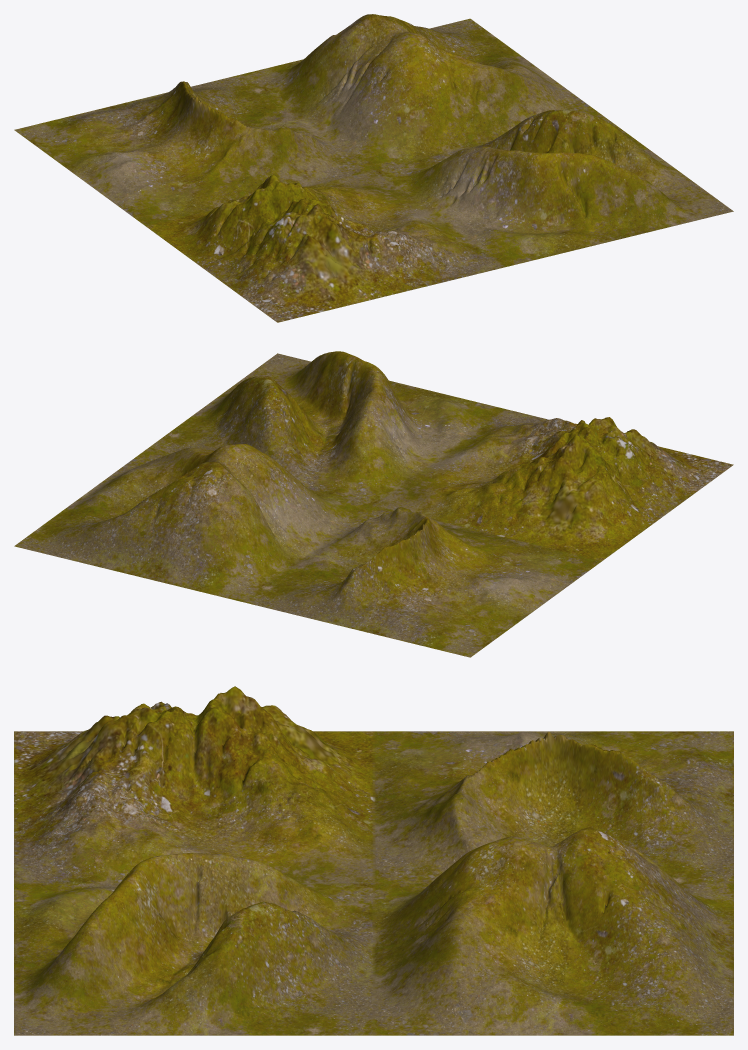
File: korea-1951-terrain.glb
The picture shows the model from 3 angles, top to bottom: view 1: azimuth 30°, elevation 25°; view 2: azimuth 150°, elevation 25°; view 3: azimuth 270°, elevation 25°; orthographic projection. The views are drawn at different scales.
Parts seen in each view (by area): view 1: korea-tile-4, korea-tile-2, korea-tile-3, korea-tile-1; view 2: korea-tile-2, korea-tile-3, korea-tile-1, korea-tile-4; view 3: korea-tile-2, korea-tile-4, korea-tile-3, korea-tile-1.
Part boxes in pixels (left/top/right/bottom): korea-tile-4: left=374, top=110, right=733, bottom=266; korea-tile-2: left=242, top=14, right=601, bottom=170; korea-tile-3: left=146, top=171, right=505, bottom=322; korea-tile-1: left=14, top=74, right=373, bottom=226; korea-tile-2: left=14, top=444, right=373, bottom=601; korea-tile-3: left=374, top=409, right=733, bottom=560; korea-tile-1: left=242, top=505, right=601, bottom=657; korea-tile-4: left=146, top=351, right=505, bottom=505; korea-tile-2: left=374, top=827, right=733, bottom=1035; korea-tile-4: left=14, top=853, right=373, bottom=1035; korea-tile-3: left=14, top=686, right=373, bottom=883; korea-tile-1: left=374, top=731, right=733, bottom=883.
Bounding box in the file's own units: 600 × 98.65 × 600.
1 material, 1 textured.
